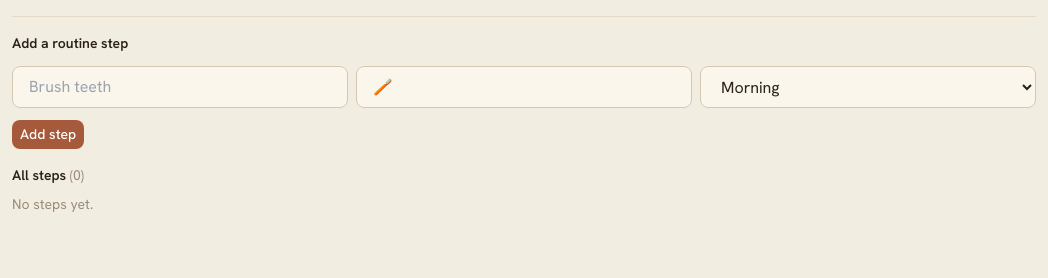
it: RoutineManagePanel › surfaces a create error
Type "Wash face" into the field named "Step name" at x=180, y=87, box [12,66,348,108]
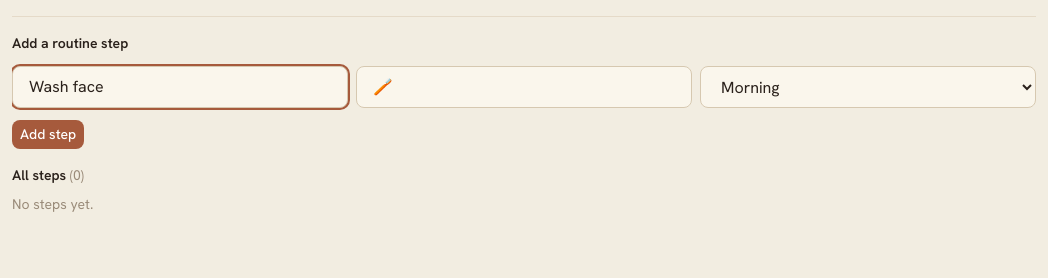
Type "🧼" into the field named "Emoji" at x=524, y=87, box [356,66,692,108]
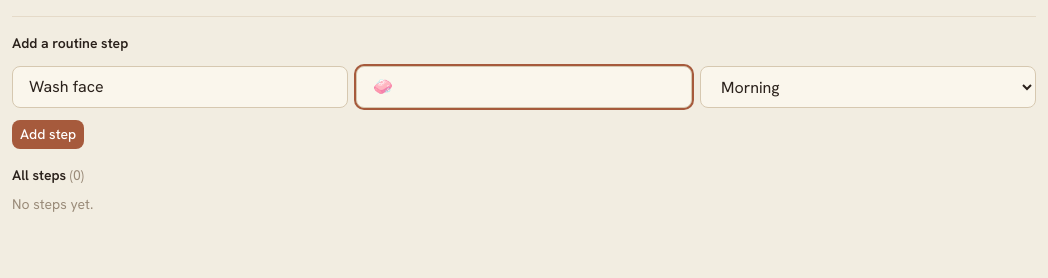
Click the button "Add step" at x=48, y=134, box [12,120,84,149]
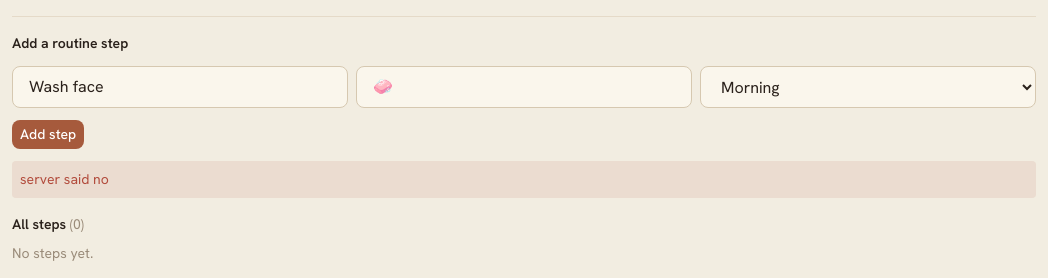
Expected: the text "server said no" is shown, [12,161,1036,198]
